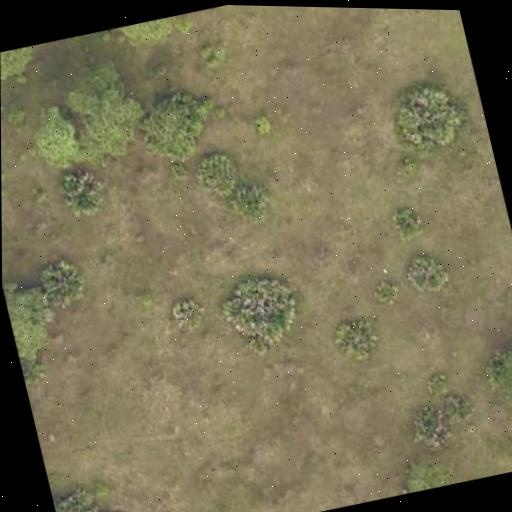tree-top: (17, 54, 157, 178), (218, 265, 313, 361), (380, 71, 478, 162), (135, 78, 227, 172), (2, 265, 59, 361), (475, 322, 512, 449), (113, 11, 197, 53), (389, 447, 458, 497), (34, 252, 91, 312), (399, 246, 455, 304), (0, 43, 48, 90), (52, 482, 111, 512)
